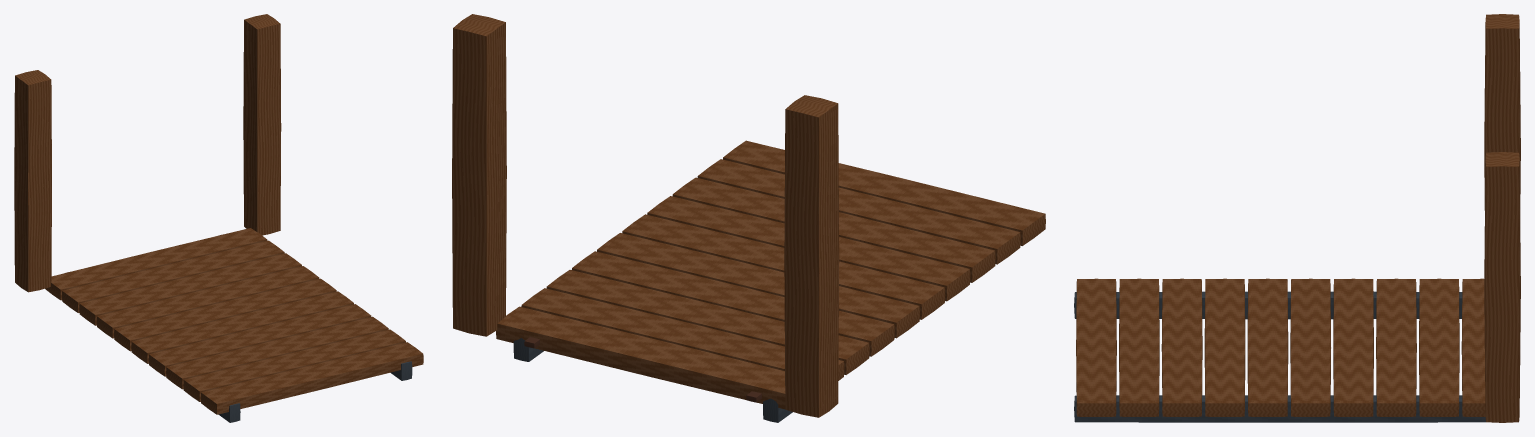
3 views of the same model, side by side, from view 1: azimuth 30°, elevation 25°; view 2: azimuth 150°, elevation 25°; view 3: azimuth 270°, elevation 25° (orthographic). The views are drawn at different scales.
Parts seen in each view (by area): view 1: wood.0, wood.1, wood.11, wood.5, wood.6, wood.7, wood.8, wood.10, wood.3, wood.4, wood.9, wood.2; view 2: wood.0, wood.1, wood.2, wood.11, wood.4, wood.5, wood.10, wood.9, wood.6, wood.8, wood.7, wood.3; view 3: wood.1, wood.11, wood.4, wood.5, wood.10, wood.3, wood.7, wood.8, wood.9, wood.6, wood.0, iron.13 (+2 smaller).
Part boxes in pixels (x1=…): wood.0: x1=14, y1=70, x2=51, y2=292; wood.1: x1=243, y1=14, x2=281, y2=235; wood.11: x1=201, y1=342, x2=423, y2=414; wood.5: x1=96, y1=266, x2=319, y2=338; wood.6: x1=114, y1=278, x2=336, y2=351; wood.7: x1=131, y1=291, x2=353, y2=363; wood.8: x1=148, y1=304, x2=371, y2=376; wood.10: x1=183, y1=329, x2=405, y2=401; wood.3: x1=62, y1=240, x2=284, y2=312; wood.4: x1=79, y1=253, x2=301, y2=325; wood.9: x1=166, y1=316, x2=388, y2=389; wood.2: x1=45, y1=228, x2=267, y2=300; wood.0: x1=784, y1=95, x2=839, y2=417; wood.1: x1=452, y1=14, x2=506, y2=336; wood.2: x1=496, y1=306, x2=785, y2=409; wood.11: x1=723, y1=140, x2=1045, y2=245; wood.4: x1=546, y1=270, x2=869, y2=374; wood.5: x1=572, y1=251, x2=894, y2=356; wood.10: x1=697, y1=159, x2=1020, y2=264; wood.9: x1=672, y1=177, x2=995, y2=282; wood.6: x1=597, y1=233, x2=919, y2=338; wood.8: x1=647, y1=196, x2=970, y2=301; wood.7: x1=622, y1=214, x2=945, y2=319; wood.3: x1=521, y1=288, x2=844, y2=380; wood.1: x1=1484, y1=152, x2=1520, y2=422; wood.11: x1=1076, y1=278, x2=1116, y2=416; wood.4: x1=1376, y1=278, x2=1416, y2=416; wood.5: x1=1333, y1=278, x2=1373, y2=416; wood.10: x1=1119, y1=278, x2=1159, y2=416; wood.3: x1=1419, y1=278, x2=1459, y2=416; wood.7: x1=1247, y1=278, x2=1288, y2=416; wood.8: x1=1204, y1=278, x2=1245, y2=416; wood.9: x1=1161, y1=278, x2=1202, y2=416; wood.6: x1=1290, y1=278, x2=1330, y2=416; wood.0: x1=1484, y1=14, x2=1520, y2=210; iron.13: x1=1074, y1=395, x2=1485, y2=422.
Size of the model in its own units: 1.78 by 1.51 by 2.19.
Materials: 3 (3 with a texture image).
